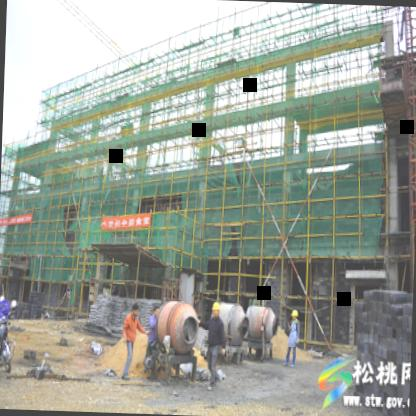head: (130, 301, 142, 319), (152, 304, 162, 321)
helmet: (210, 298, 224, 322), (290, 306, 300, 324)
